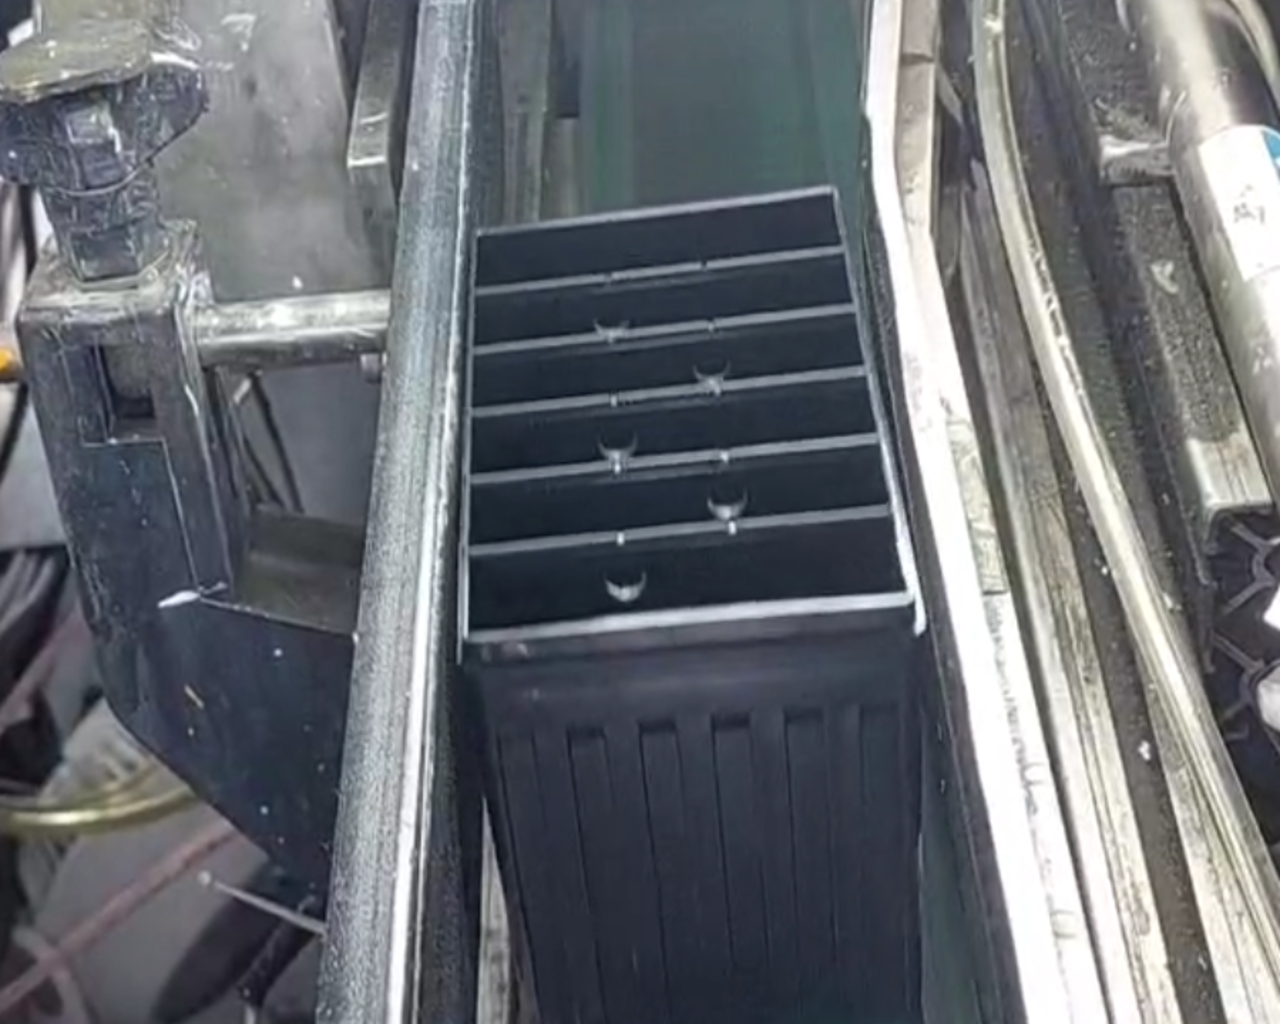box: (436, 164, 942, 688)
round: (587, 546, 660, 610), (692, 467, 762, 529), (678, 338, 743, 391), (580, 296, 647, 346), (584, 417, 648, 464)
